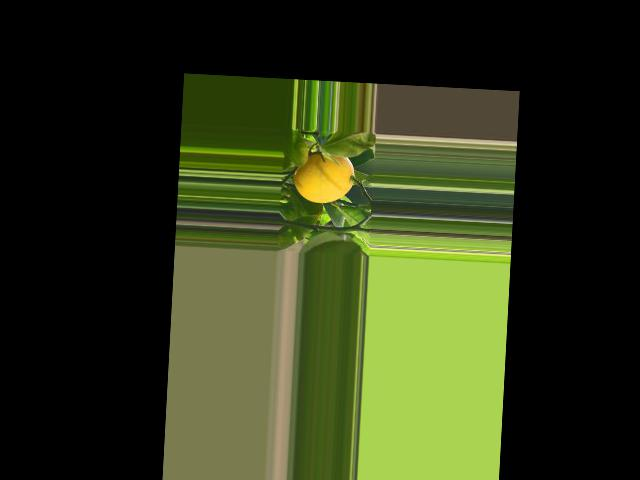lemon: (289, 145, 359, 220)
